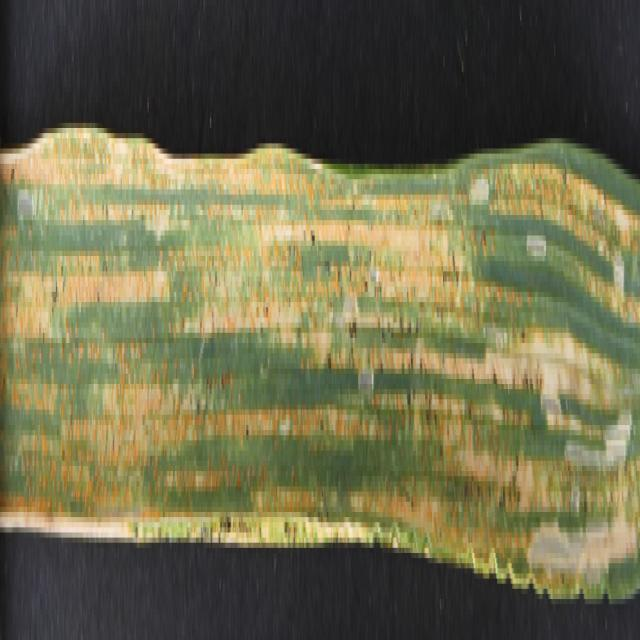leaf rust: (0, 163, 640, 573)
